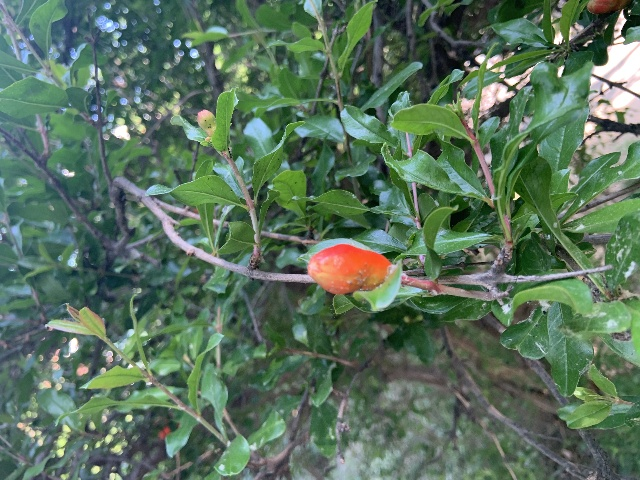bud: (307, 243, 392, 294), (586, 0, 633, 14)
